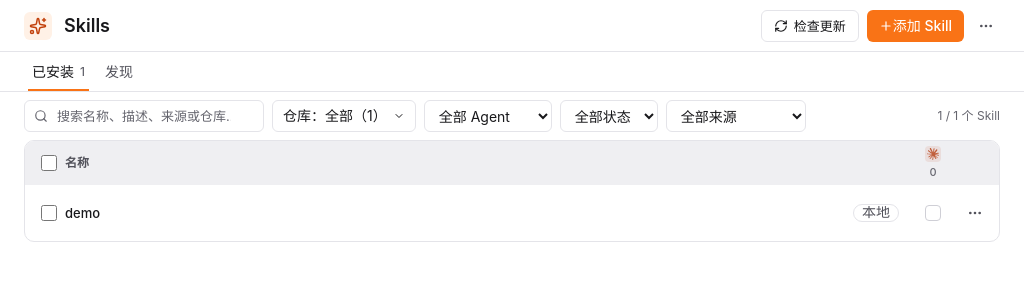
shows the link kind the backend actually used
This screenshot has width=1024, height=305.
Step 1. Click the checkbox named "Claude Code 启用 demo" → (933,213), box [925, 205, 941, 221]
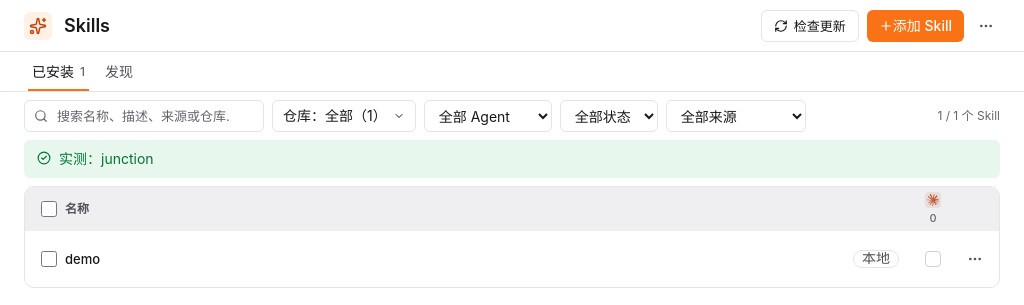
Check: the text "实测：junction" is shown, box [59, 149, 154, 169]
